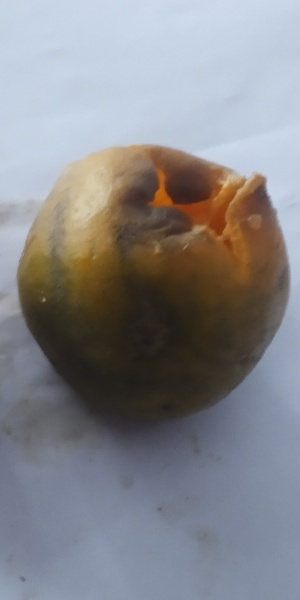BAD: (15, 141, 288, 433)
